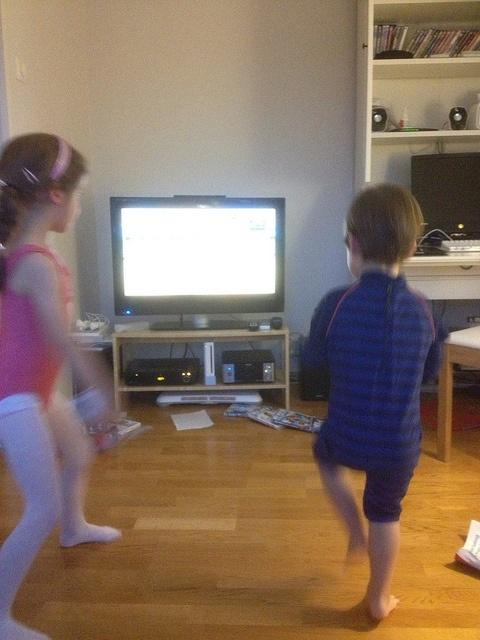AIO PC-Monitor-TV: (107, 194, 286, 332), (409, 151, 479, 243)
Rak: (353, 0, 479, 259)
